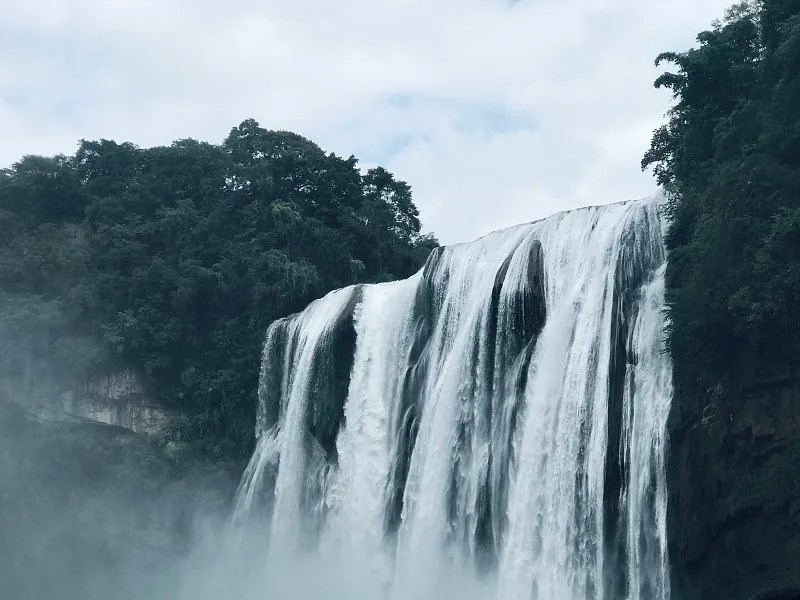Huangguoshu: (235, 197, 671, 600)
